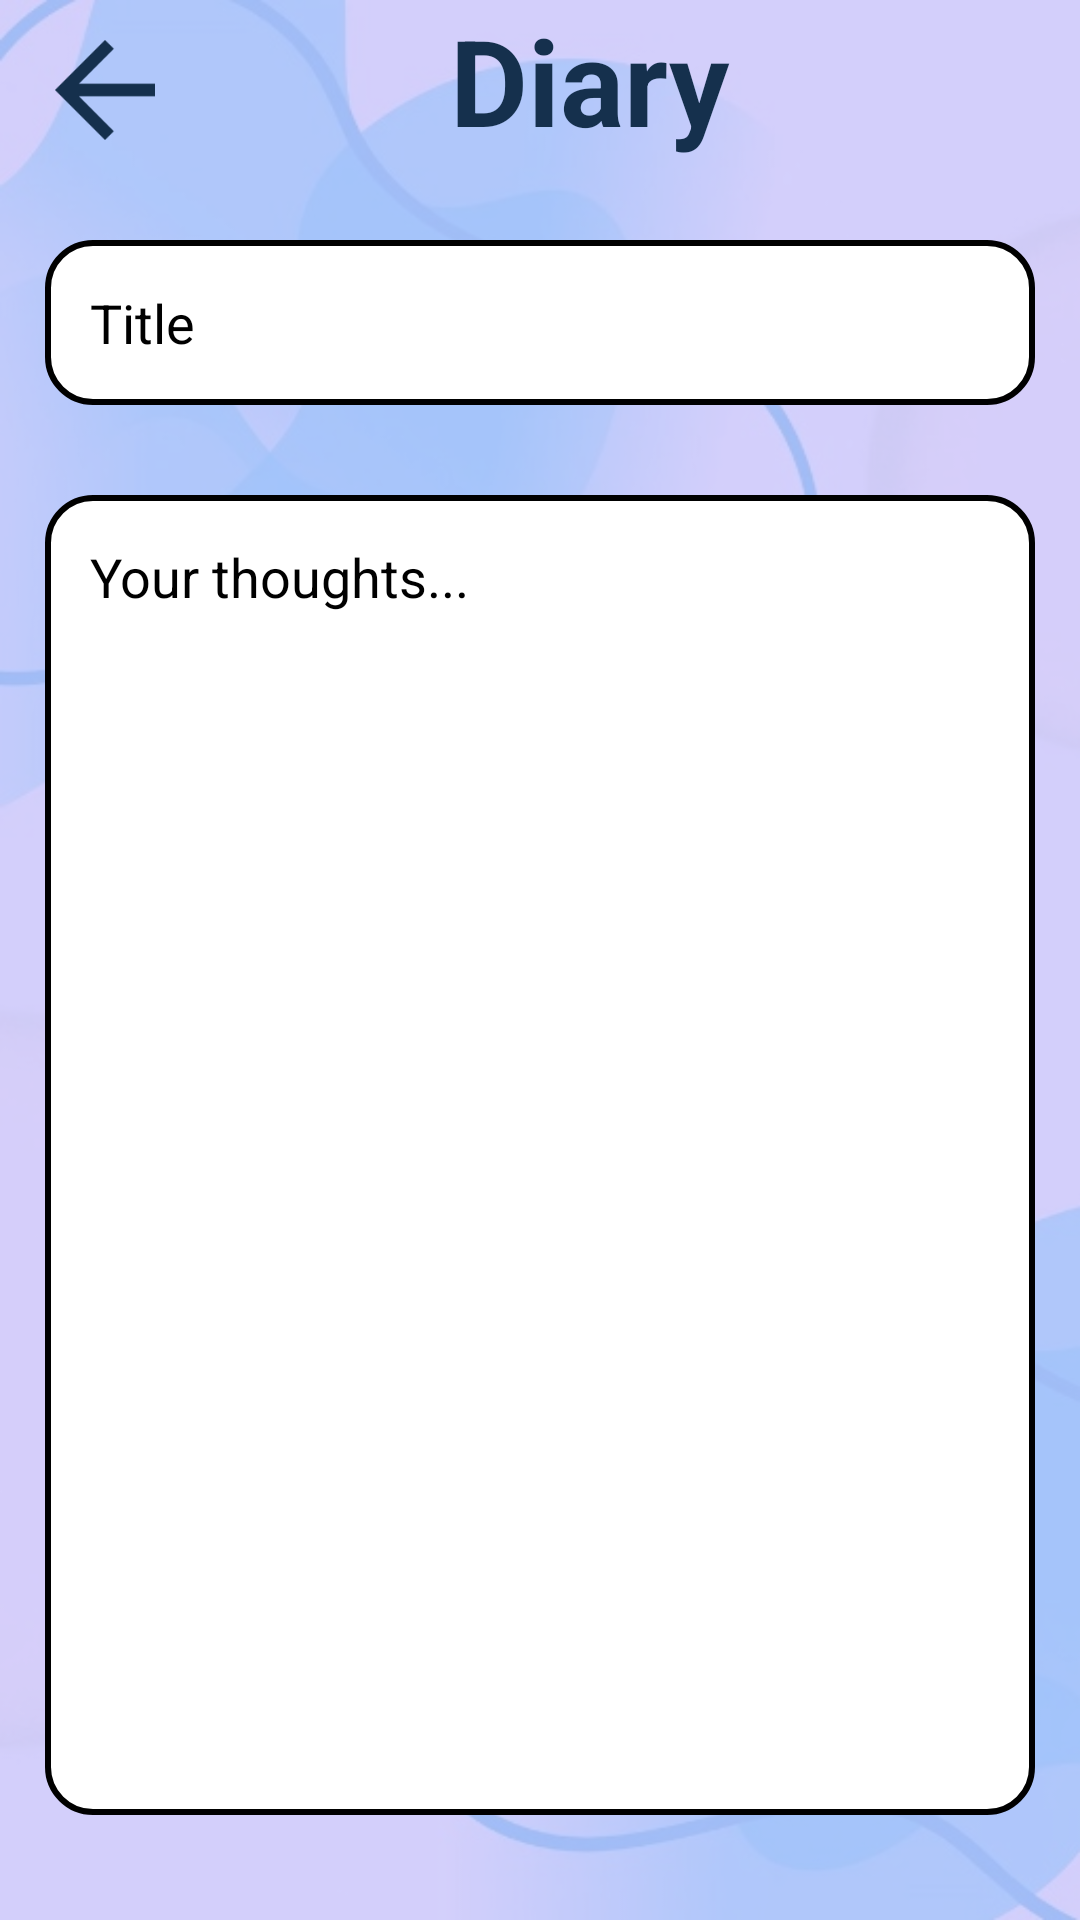

Icon bounding boxes for this 1080px x 1920px phone screenshot, format (left=x1, top=y1, right=x2, bottom=y2):
arrow back: (left=0, top=15, right=155, bottom=165)
